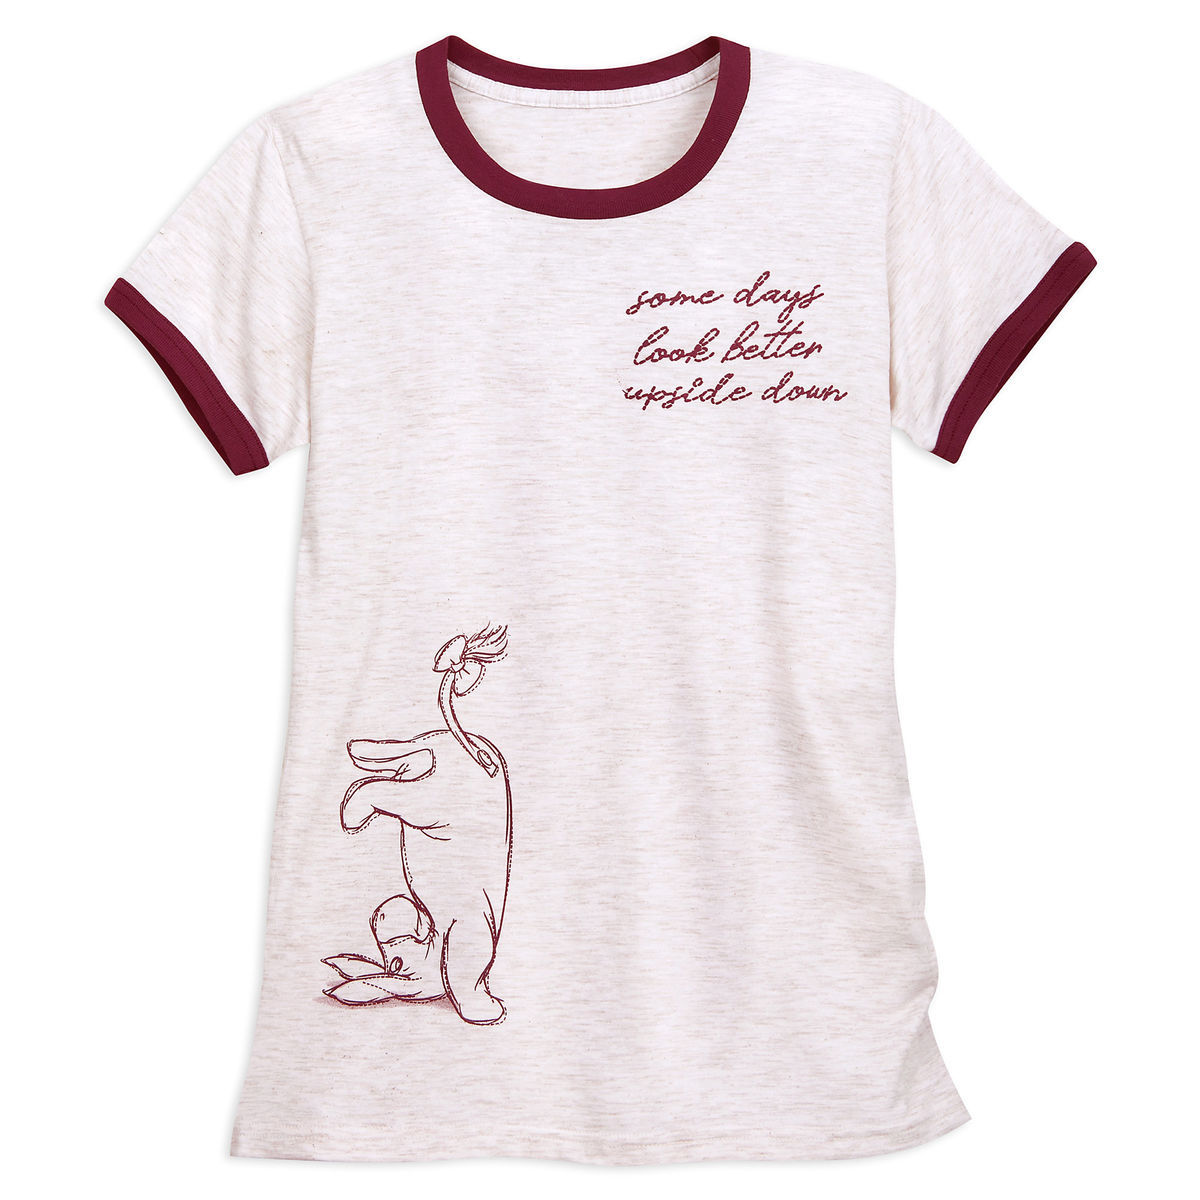T-Shirt: (105, 31, 1116, 1174)
